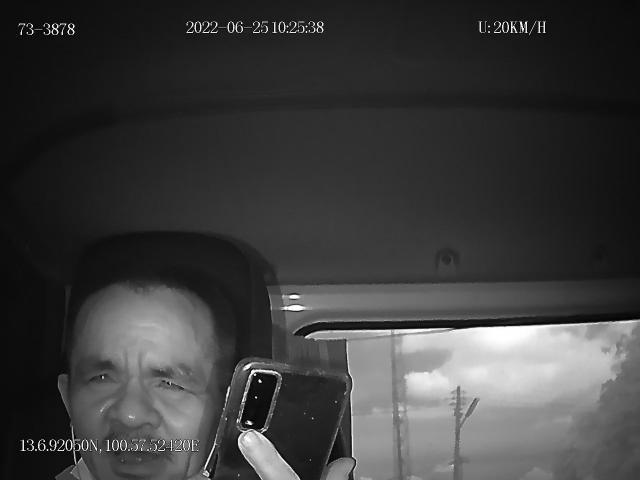PhoneUse: (206, 356, 354, 480)
SafeDriving: (146, 364, 200, 401), (76, 359, 124, 392)
